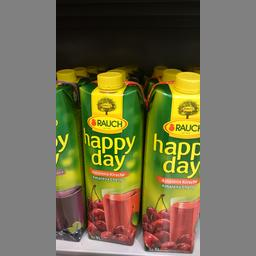juice: (77, 71, 144, 246), (143, 70, 199, 252), (56, 68, 81, 238)
